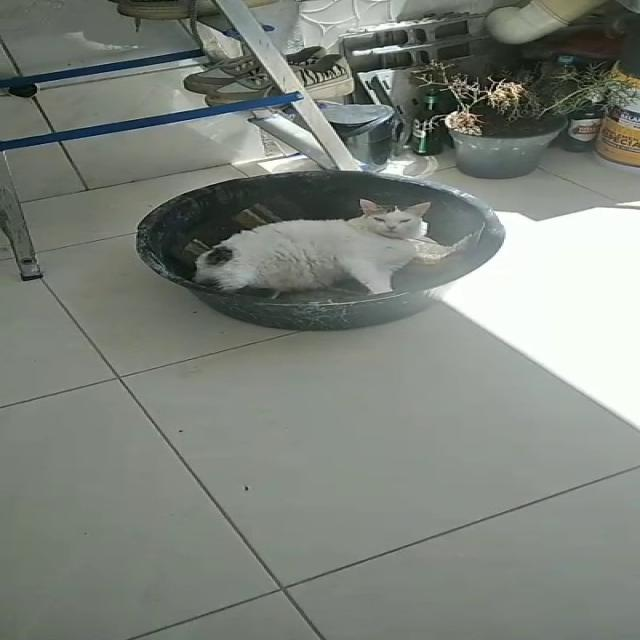Simba: (186, 188, 463, 288)
